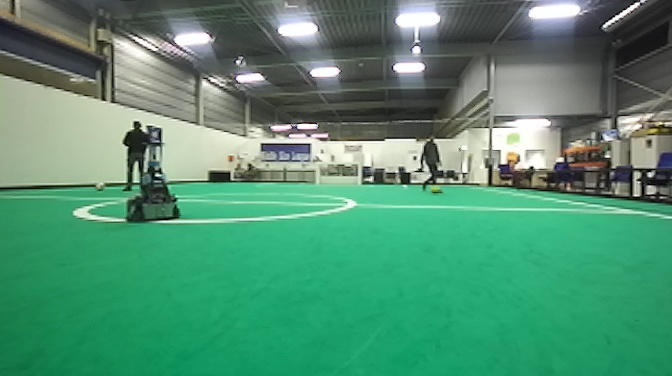ball: (92, 179, 107, 193), (428, 184, 444, 197)
goal: (314, 161, 363, 187)
goalpost: (357, 162, 361, 187), (315, 162, 319, 186)
human: (120, 120, 153, 192), (417, 133, 446, 193)
robot: (122, 139, 184, 227)
